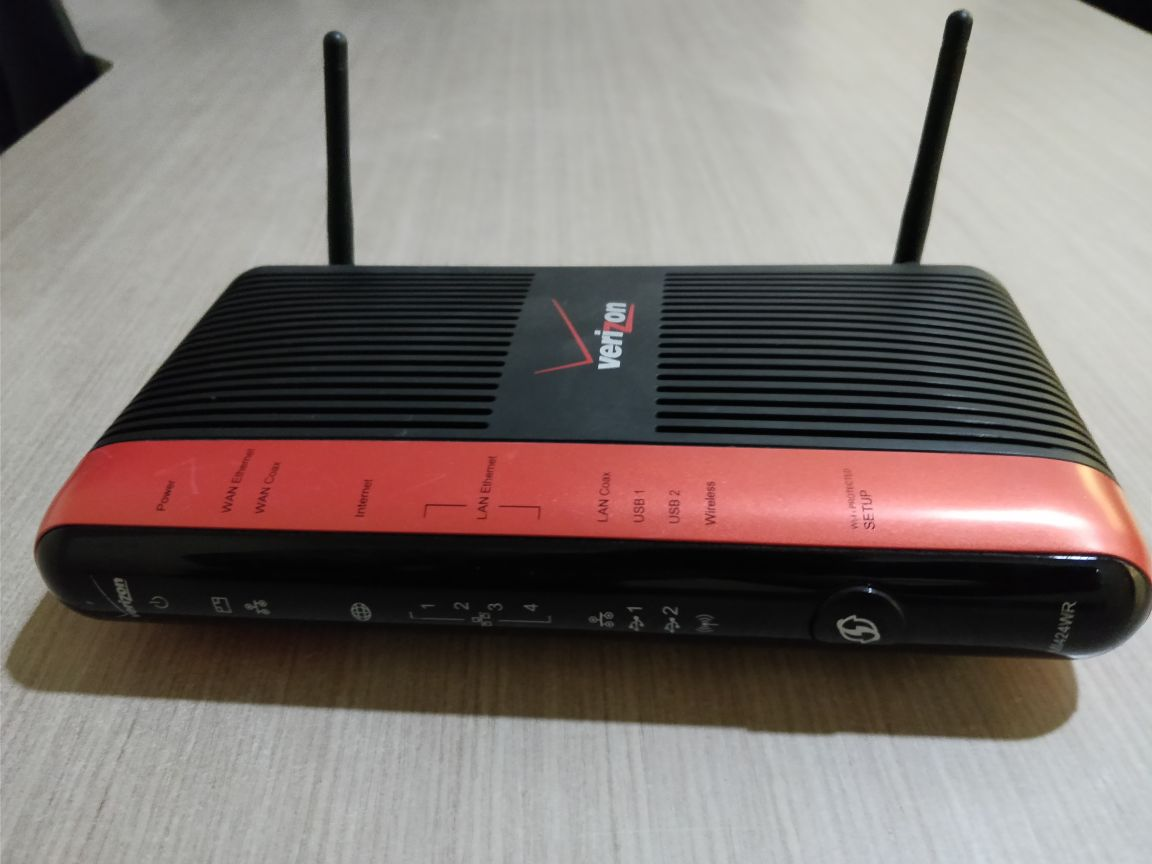Verizon Router: (17, 17, 1152, 671)
